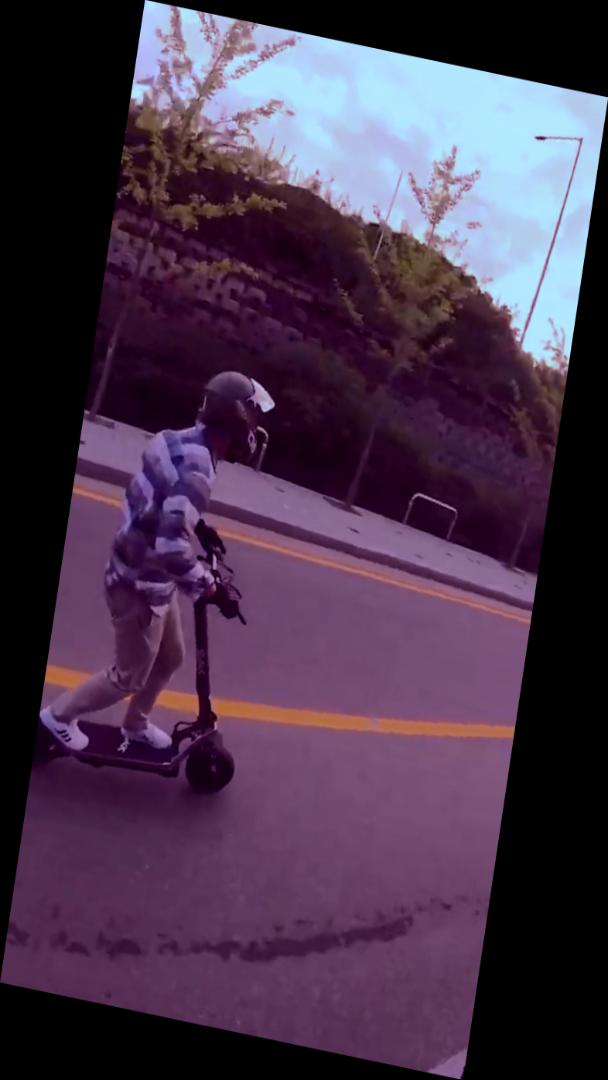helmet: (33, 342, 296, 806)
